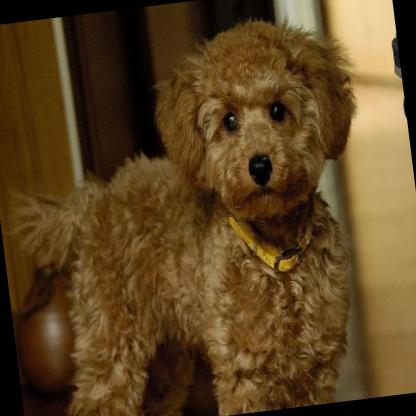toy_poodle: (0, 7, 399, 416)
